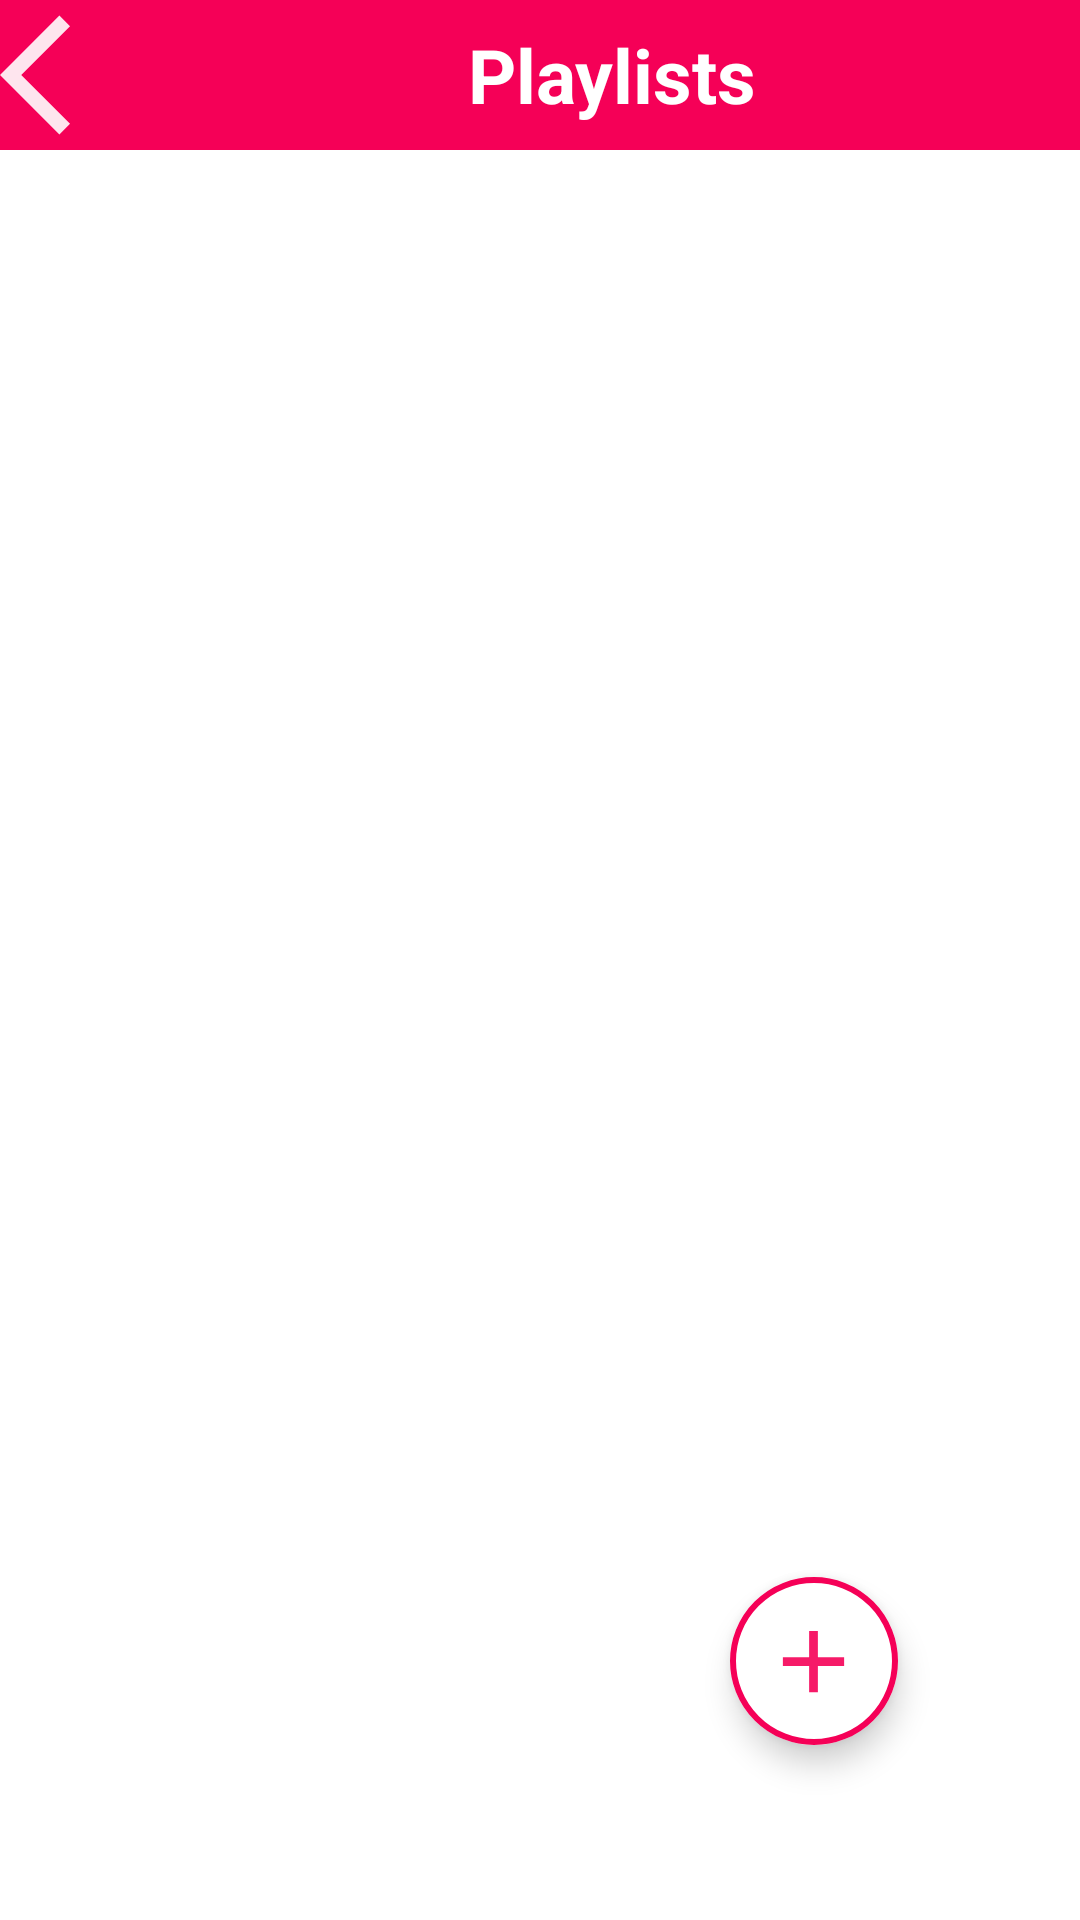

Named icons in this screenshot (1080px×1920px) and their bounding boxes, (x1, y1, x2, y2):
add: (730, 1577, 898, 1745)
arrow back: (0, 15, 70, 135)
